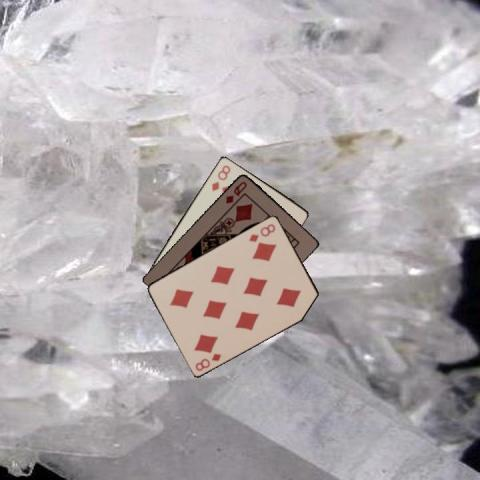8d: (209, 162, 232, 192), (246, 221, 277, 243), (192, 350, 223, 372)
Qd: (222, 178, 248, 205)
